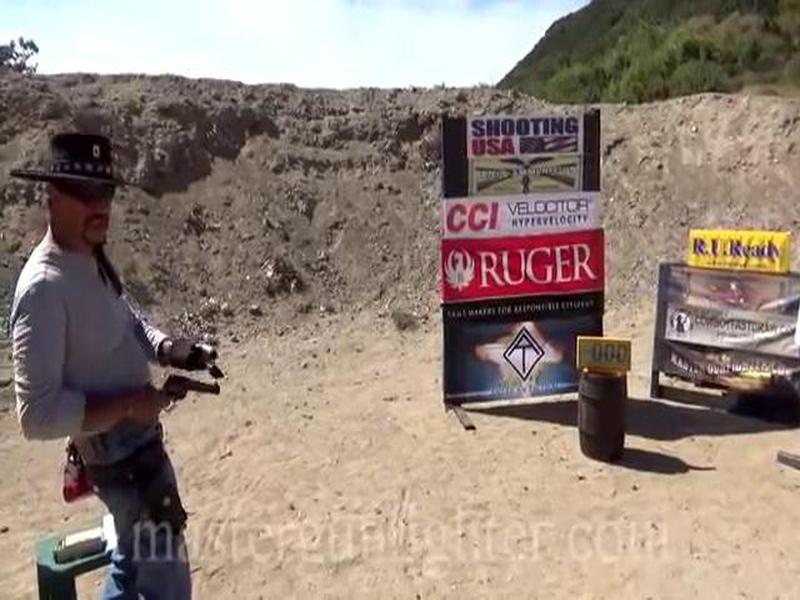Revolver: (134, 364, 228, 434)
